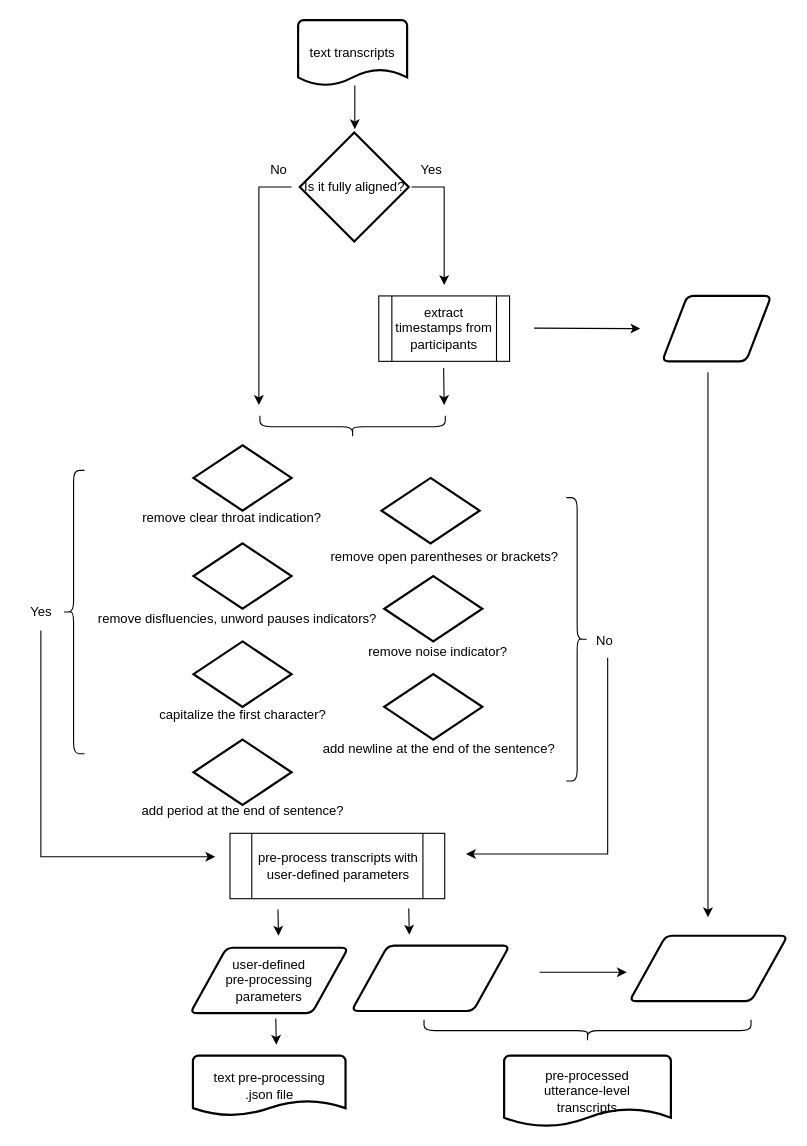
This 807x1146 diagram has some shape labels left out. Each missing label, with the centre of its shape:
"extracted timestamps" goes at pixel 716 328.
"utterance-level transcripts" goes at pixel 430 978.
"utterance-level transcripts with timestamps" goes at pixel 708 968.
